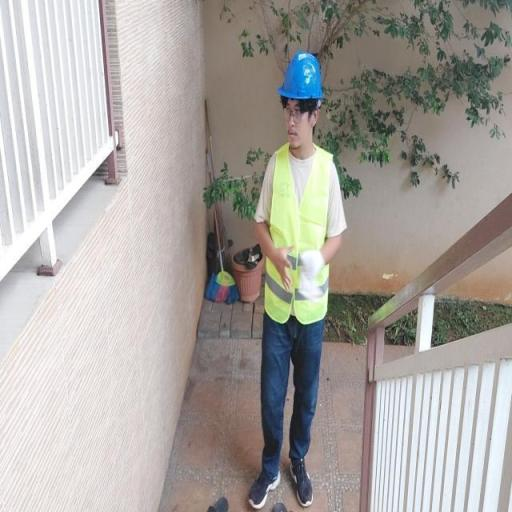Person: (232, 34, 344, 511)
helmet: (274, 51, 334, 105)
vest: (259, 140, 342, 330)
